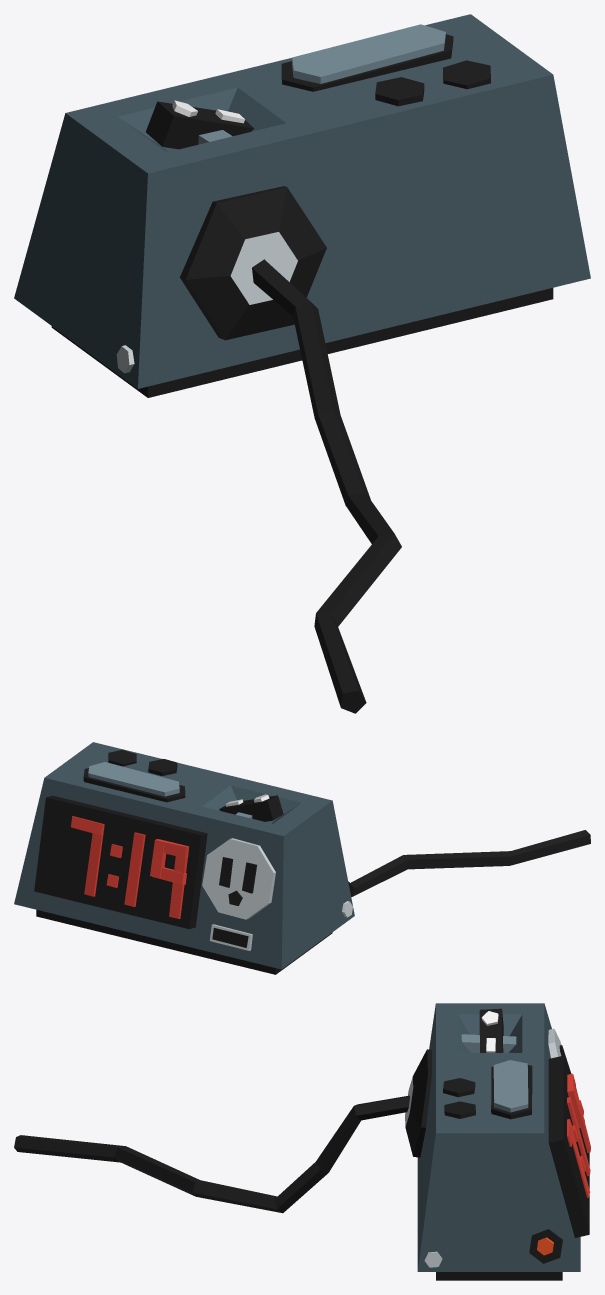
3 views of the same model, one above another, from view 1: azimuth 30°, elevation 25°; view 2: azimuth 150°, elevation 25°; view 3: azimuth 270°, elevation 25° (orthographic). The views are drawn at different scales.
Parts seen in each view (by area): view 1: mesh_335136011, group_590812250, group_1572523851, mesh_712291025, group_1342934644, mesh_336328460, group_889766223, group_1666950865, group_795273595; view 2: mesh_335136011, mesh_1223167977, group_195510460, group_1572523851, mesh_712291025, group_1342934644, group_371484656, mesh_336328460, mesh_517170809, group_889766223, mesh_803034596, mesh_762837274 (+6 smaller); view 3: mesh_335136011, group_1572523851, mesh_1223167977, group_590812250, group_1342934644, mesh_712291025, mesh_336328460, group_1377990193, group_889766223, group_1666950865, mesh_3801153, group_795273595 (+3 smaller).
Boxes of the visible parts, x1,y1,x2,y2 form: mesh_335136011: [14, 14, 590, 388]; group_590812250: [180, 186, 326, 340]; group_1572523851: [252, 259, 401, 713]; mesh_712291025: [51, 288, 553, 397]; group_1342934644: [292, 24, 445, 83]; mesh_336328460: [146, 101, 253, 149]; group_889766223: [281, 34, 453, 91]; group_1666950865: [375, 77, 424, 106]; group_795273595: [443, 60, 490, 89]; mesh_335136011: [14, 742, 354, 969]; mesh_1223167977: [34, 795, 207, 929]; group_195510460: [202, 838, 275, 919]; group_1572523851: [348, 830, 590, 896]; mesh_712291025: [36, 909, 332, 974]; group_1342934644: [88, 762, 179, 796]; group_371484656: [71, 816, 104, 896]; mesh_336328460: [219, 795, 283, 821]; mesh_517170809: [124, 832, 145, 906]; group_889766223: [83, 768, 185, 802]; mesh_803034596: [169, 844, 189, 918]; mesh_762837274: [212, 928, 248, 947]; mesh_335136011: [417, 1003, 580, 1271]; group_1572523851: [14, 1095, 409, 1213]; mesh_1223167977: [548, 1055, 589, 1237]; group_590812250: [405, 1049, 431, 1157]; group_1342934644: [493, 1060, 528, 1112]; mesh_712291025: [436, 1272, 562, 1280]; mesh_336328460: [479, 1008, 503, 1052]; group_1377990193: [529, 1229, 562, 1263]; group_889766223: [491, 1065, 532, 1119]; group_1666950865: [443, 1078, 475, 1097]; mesh_3801153: [461, 1034, 516, 1052]; group_795273595: [444, 1101, 475, 1118].
Bounding box in the file's own units: 23.42 × 12.12 × 31.88.
